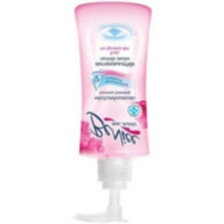cleaning_solution: (71, 0, 153, 224)
